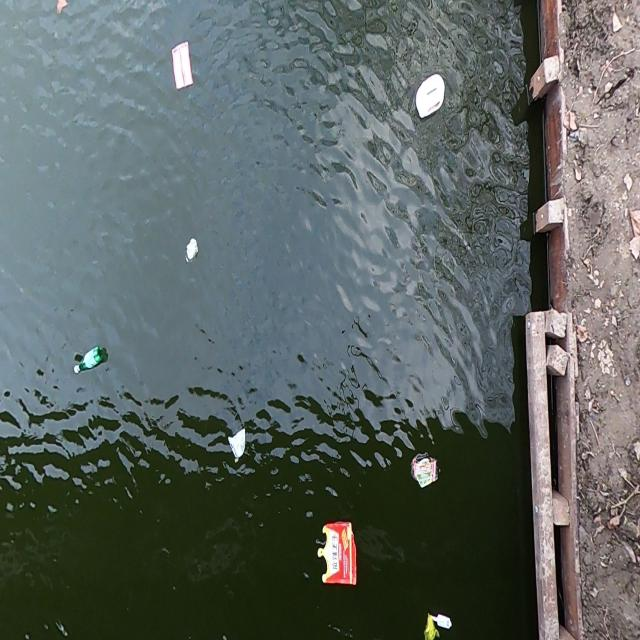Autre plastique: (168, 37, 200, 95)
Bouteille plastique: (70, 341, 108, 379)
